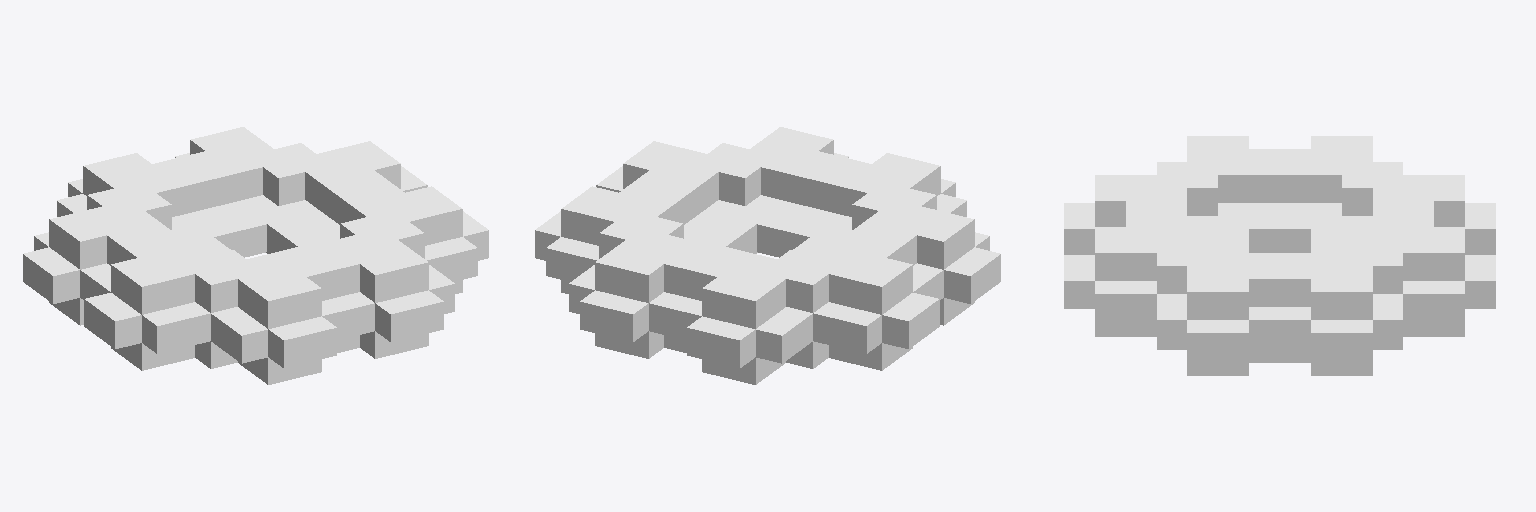
File: GearDrop.obj
The picture shows the model from 3 angles: view 1: azimuth 30°, elevation 25°; view 2: azimuth 150°, elevation 25°; view 3: azimuth 270°, elevation 25°; orthographic projection.
Visible parts, largest first — view 1: object 1; view 2: object 1; view 3: object 1.
Part boxes in pixels (left/top/right/bottom): object 1: left=23, top=127, right=488, bottom=384; object 1: left=535, top=127, right=1000, bottom=384; object 1: left=1064, top=136, right=1495, bottom=375.
Size of the model in its own units: 1.4 by 0.3 by 1.4.